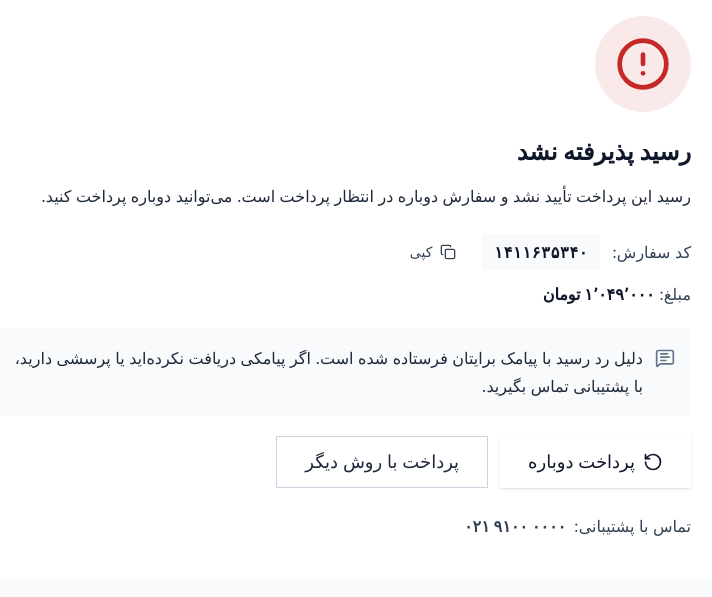
Test: rejected › «پرداخت دوباره»: a new card-transfer attempt, a new key each press, then its page
Later steps or results of the test are not shown.
Step 1. Click the button "پرداخت دوباره" → point(596, 462), box top-left (500, 436), bottom-right (691, 488)
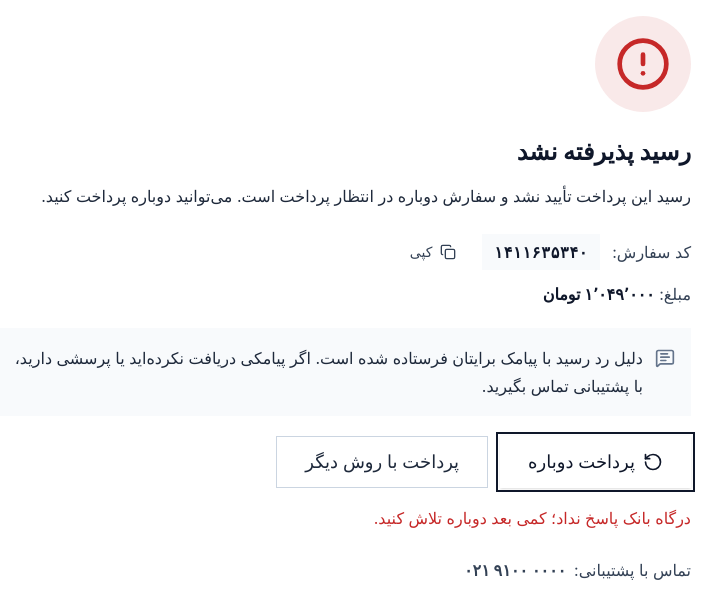
Expected: the message "درگاه بانک پاسخ نداد؛ کمی بعد دوباره تلاش کنید." is shown, top-left (374, 508), bottom-right (691, 528)
